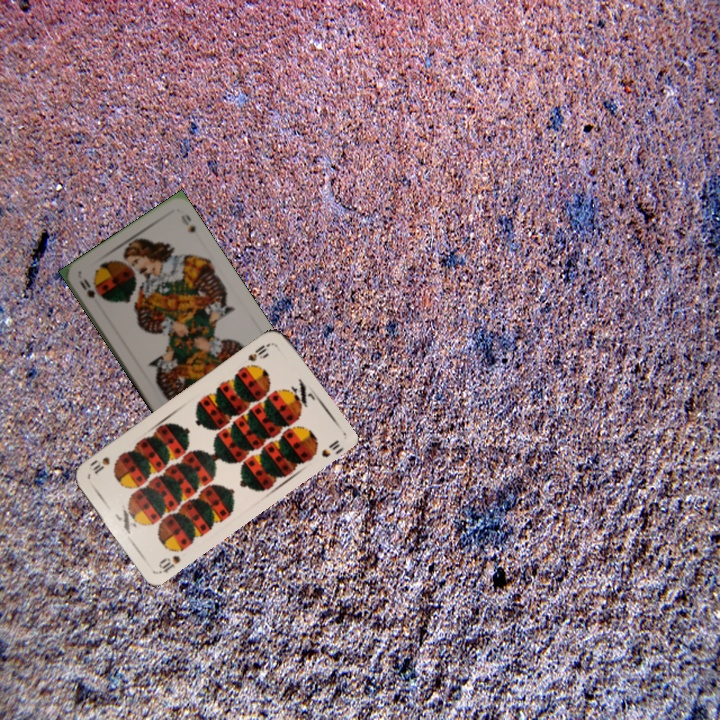S10: (243, 339, 275, 364), (154, 551, 183, 575)
SO: (76, 274, 98, 301)
